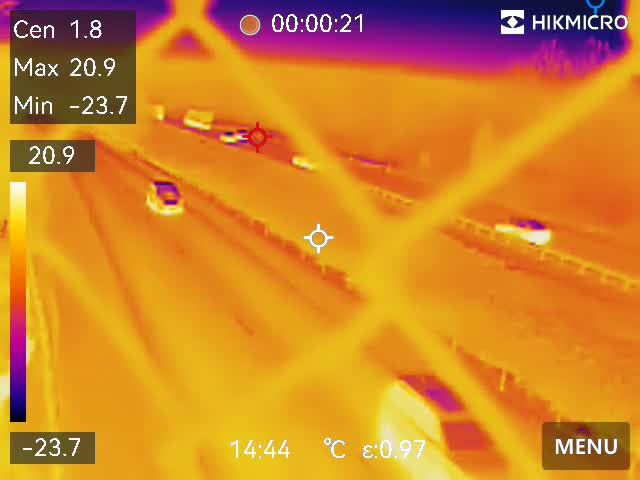heavyTruck: (182, 105, 214, 131), (137, 100, 171, 121)
largeCar: (380, 367, 503, 480), (489, 210, 549, 247), (144, 178, 184, 214)
vehicle: (287, 143, 326, 173), (221, 129, 239, 146), (237, 126, 252, 141)
